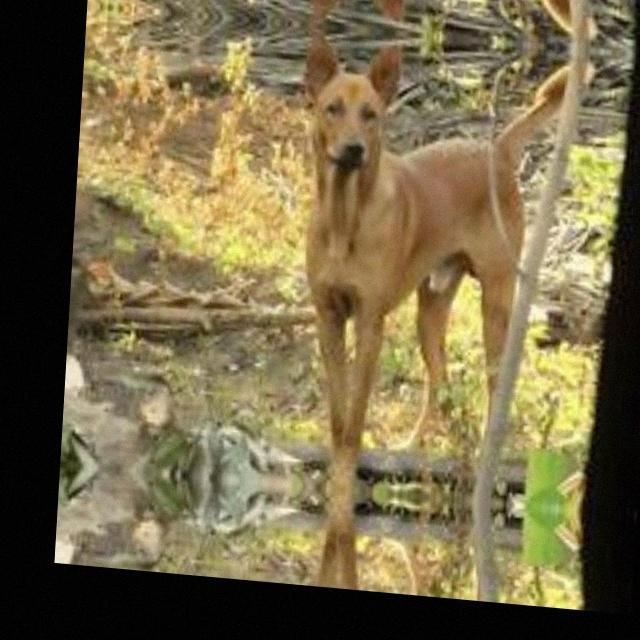dog: (256, 30, 587, 497), (250, 494, 560, 608), (283, 0, 594, 41)
